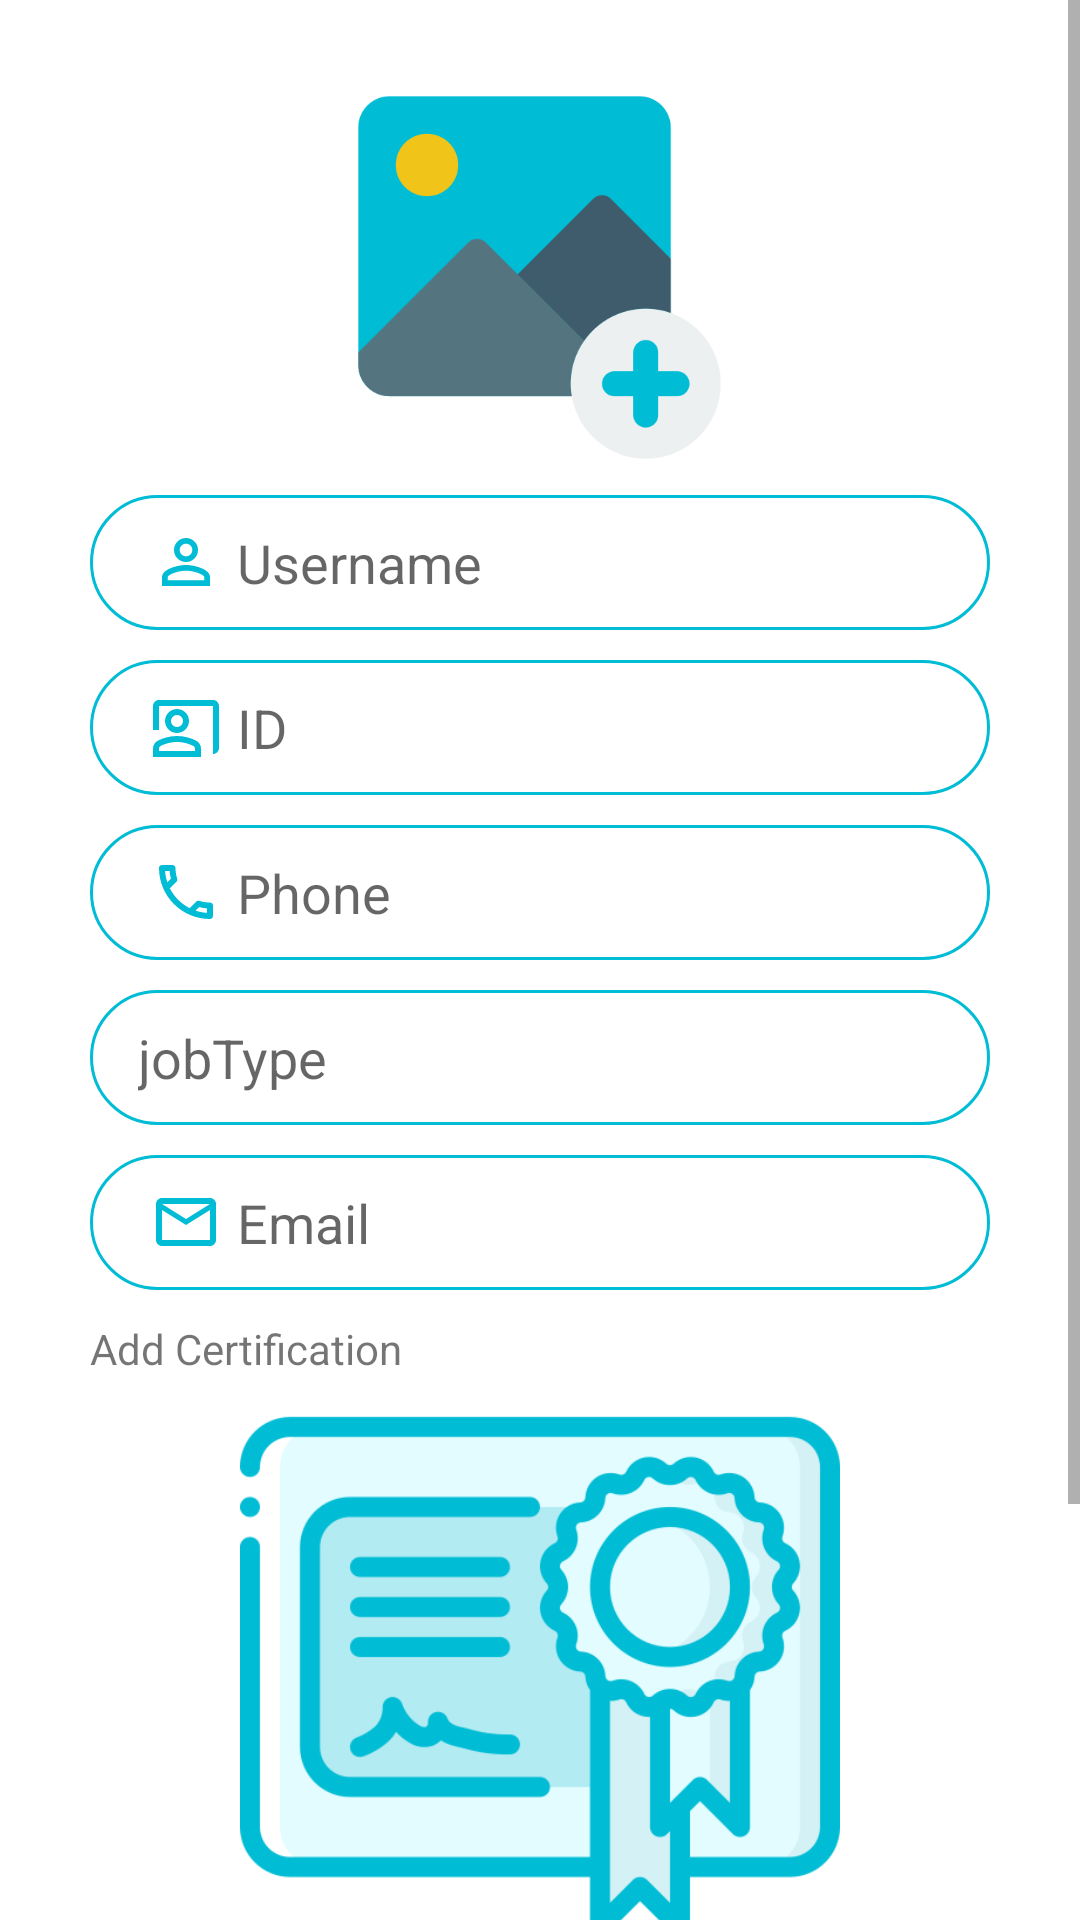

Icon click points for this 1080x1920 phone screenshot, format [x,y]:
add: [524,262]
